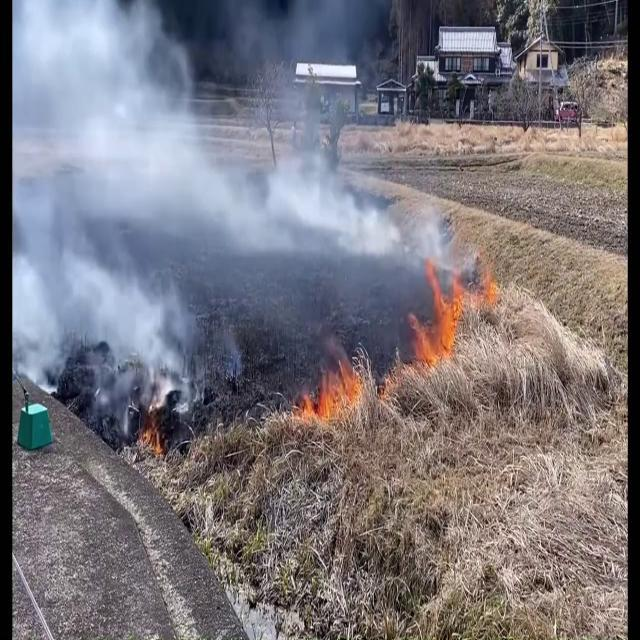Fire: (420, 253, 500, 365), (290, 352, 370, 430)
Smoke: (13, 1, 454, 332)
